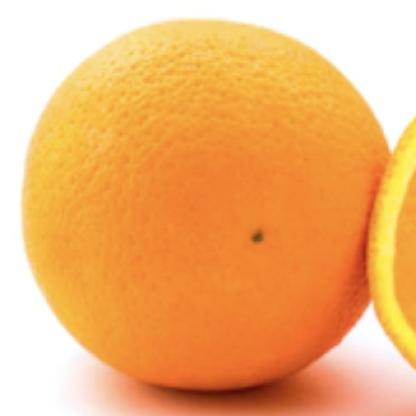fresh: (26, 19, 389, 391)
